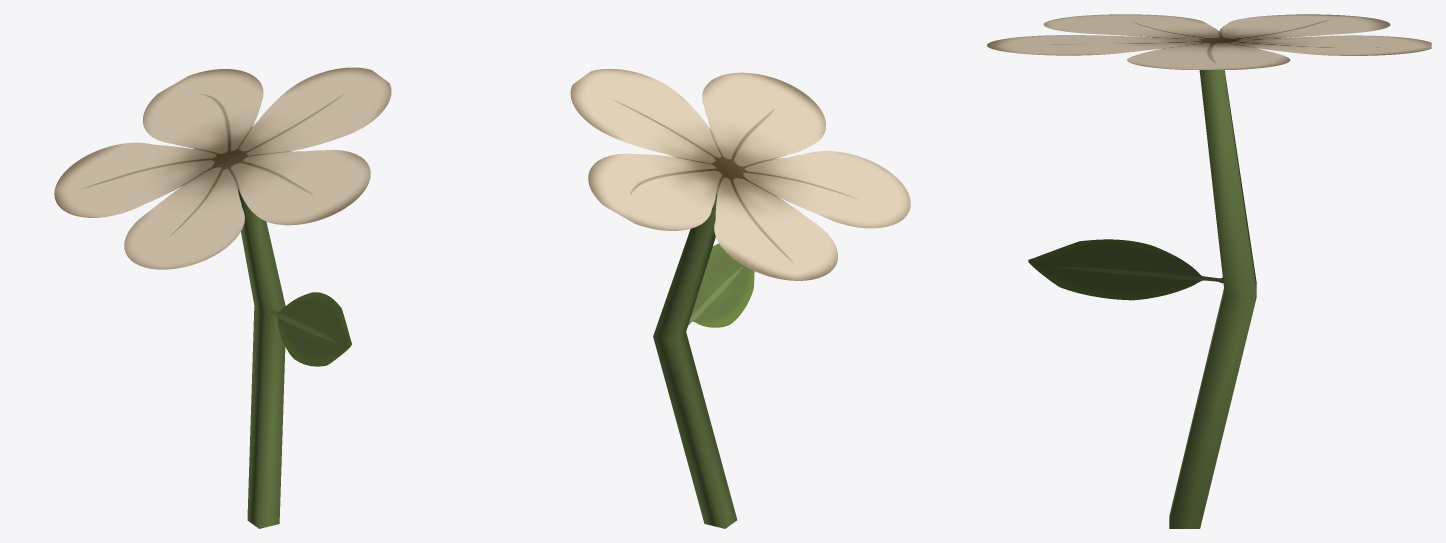
Rendered from Flor_Flor.fbx.
3 renders of one model, left to right at view 1: azimuth 30°, elevation 25°; view 2: azimuth 150°, elevation 25°; view 3: azimuth 270°, elevation 25°, orthographic. The views are drawn at different scales.
Visible parts, largest first — view 1: Flor_Flor; view 2: Flor_Flor; view 3: Flor_Flor.
Part boxes in pixels (<box>): Flor_Flor: <box>54,67,391,528</box>; Flor_Flor: <box>570,69,910,528</box>; Flor_Flor: <box>987,14,1431,528</box>.
Size of the model in its own units: 27.48 by 38.11 by 28.85.
